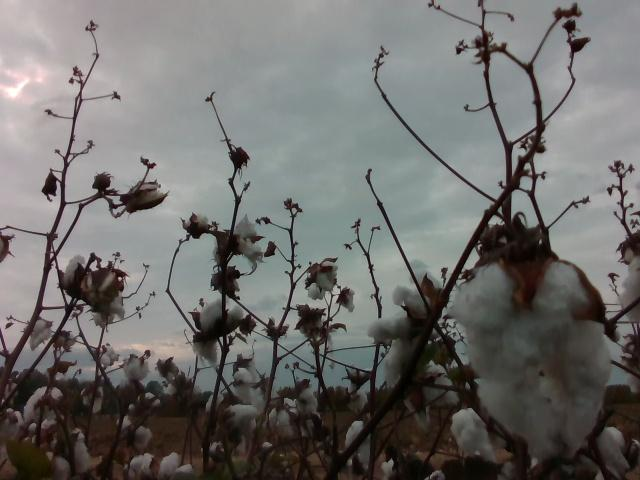cotton_ready: (452, 258, 616, 457), (370, 259, 442, 391), (63, 255, 128, 331), (191, 300, 246, 366), (44, 429, 107, 477), (227, 362, 266, 427), (266, 397, 320, 440), (451, 407, 491, 459), (131, 451, 197, 480), (230, 216, 266, 268), (620, 238, 640, 321), (26, 385, 64, 427), (345, 418, 373, 464), (126, 181, 166, 210)
